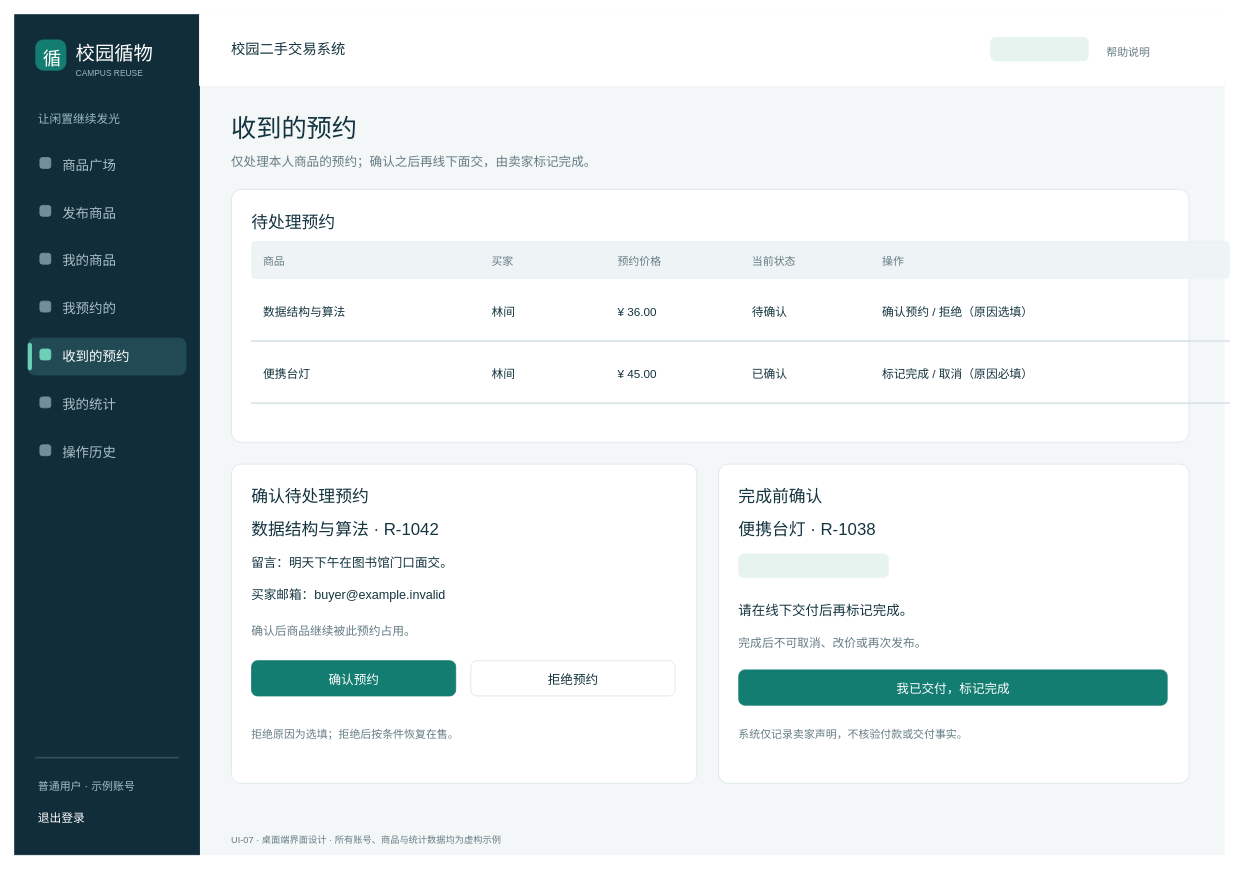
The diagram is 1244 pixels wide and 869 high, and some of its shapes have lost their labels. The shapes that lost their labels are listed below. From the top down, each one's box as (x1, y1, x2, y2) in pixels, then its label:
(990, 37, 1088, 61): 校园面交
(738, 553, 888, 578): 已确认（待面交）
